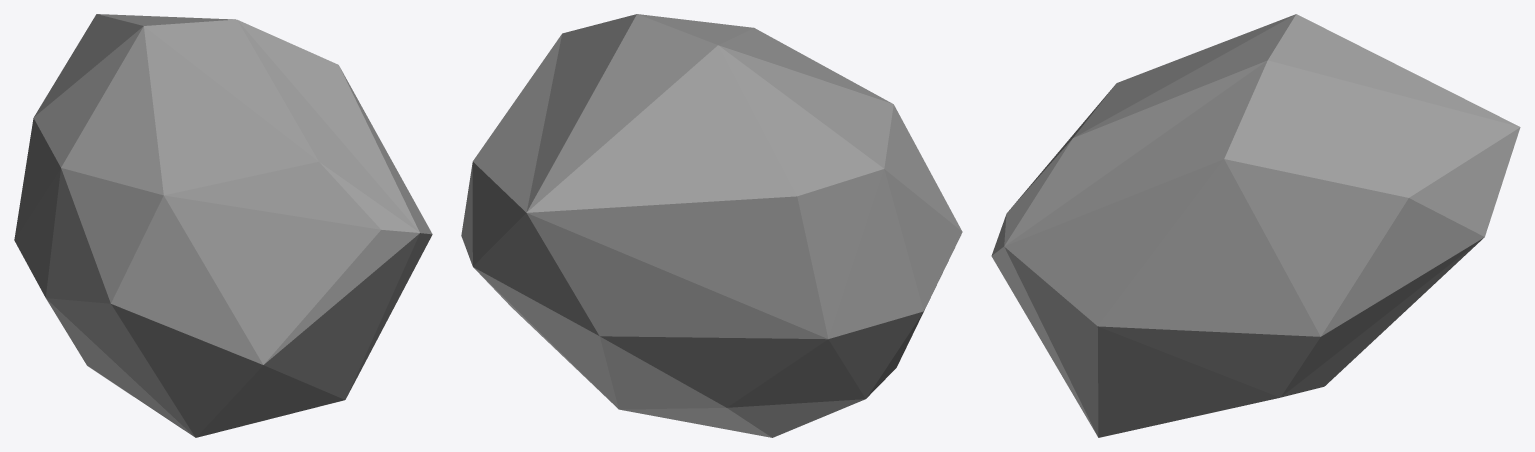
File: Rock3.obj
3 renders of one model, left to right at view 1: azimuth 30°, elevation 25°; view 2: azimuth 150°, elevation 25°; view 3: azimuth 270°, elevation 25°, orthographic. The views are drawn at different scales.
Parts seen in each view (by area): view 1: Sphere.001; view 2: Sphere.001; view 3: Sphere.001.
Part boxes in pixels (box(x1,y1,x2,y2)): Sphere.001: box(14, 14, 432, 437); Sphere.001: box(461, 14, 962, 437); Sphere.001: box(991, 14, 1520, 437).
Size of the model in its own units: 2.35 by 2.3 by 2.95.
1 material, 1 textured.
